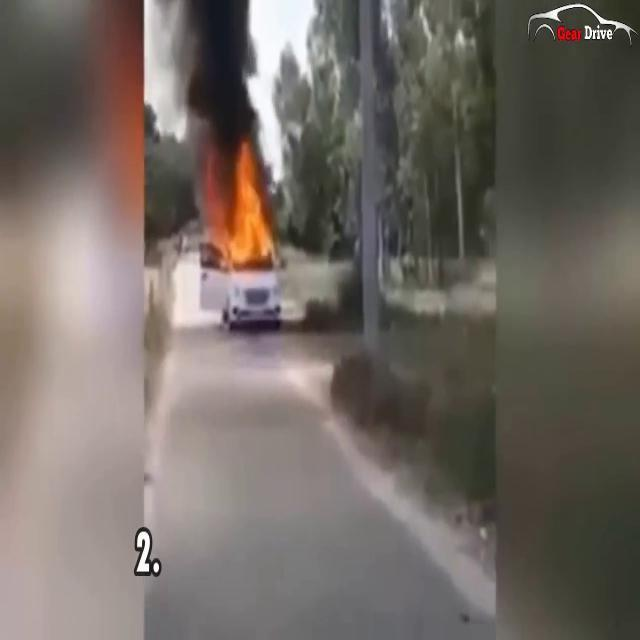Fire: (204, 137, 274, 275)
Smoke: (162, 0, 266, 168)
